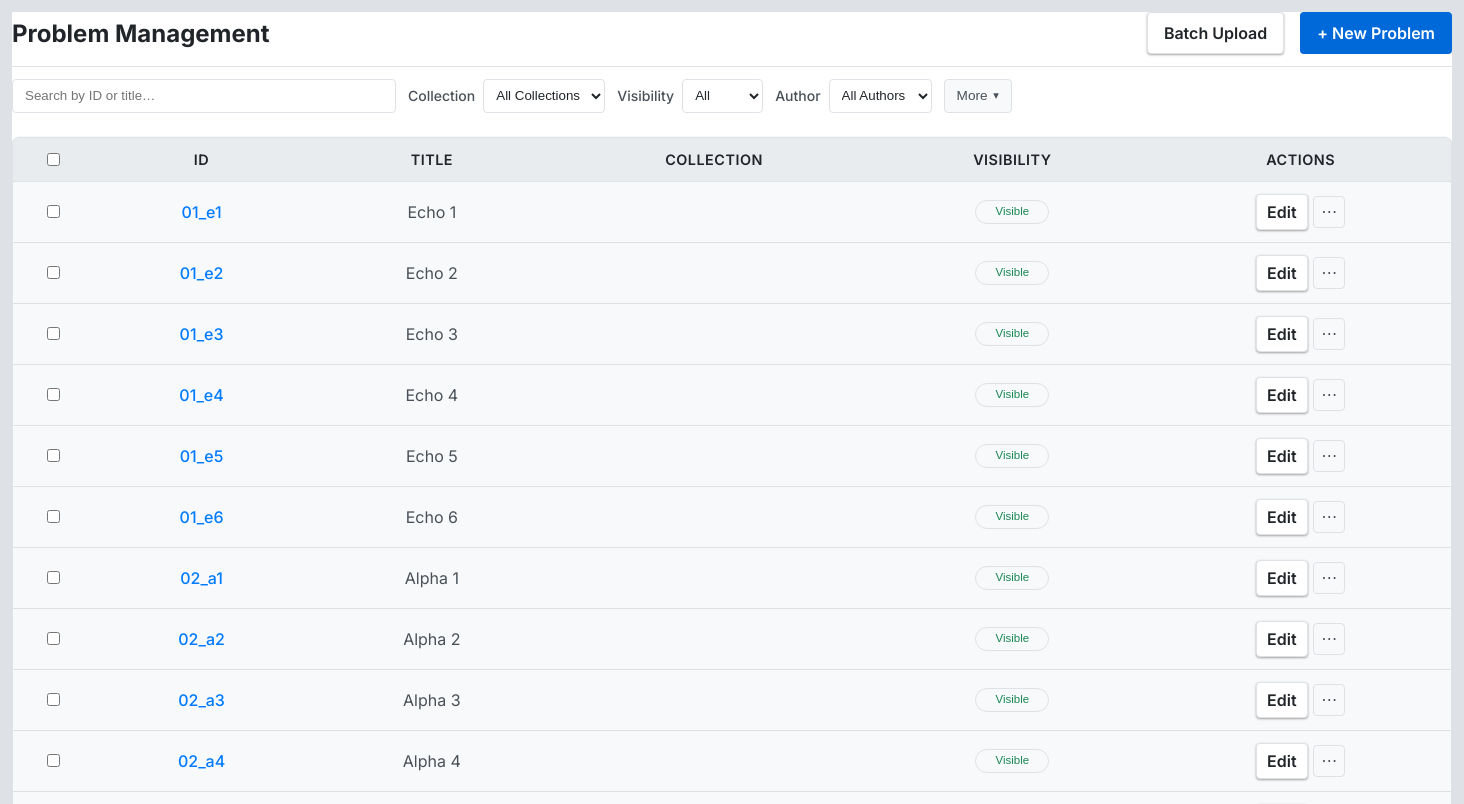
Test case: ProblemManagement Component › bulk selection › clicking the fully-checked header deselects every displayed row
Expected: the text "Echo 1" is shown, [310, 181, 554, 242]
Click the checkbox named "select all currently displayed problems": (54, 159) [47, 153, 60, 166]
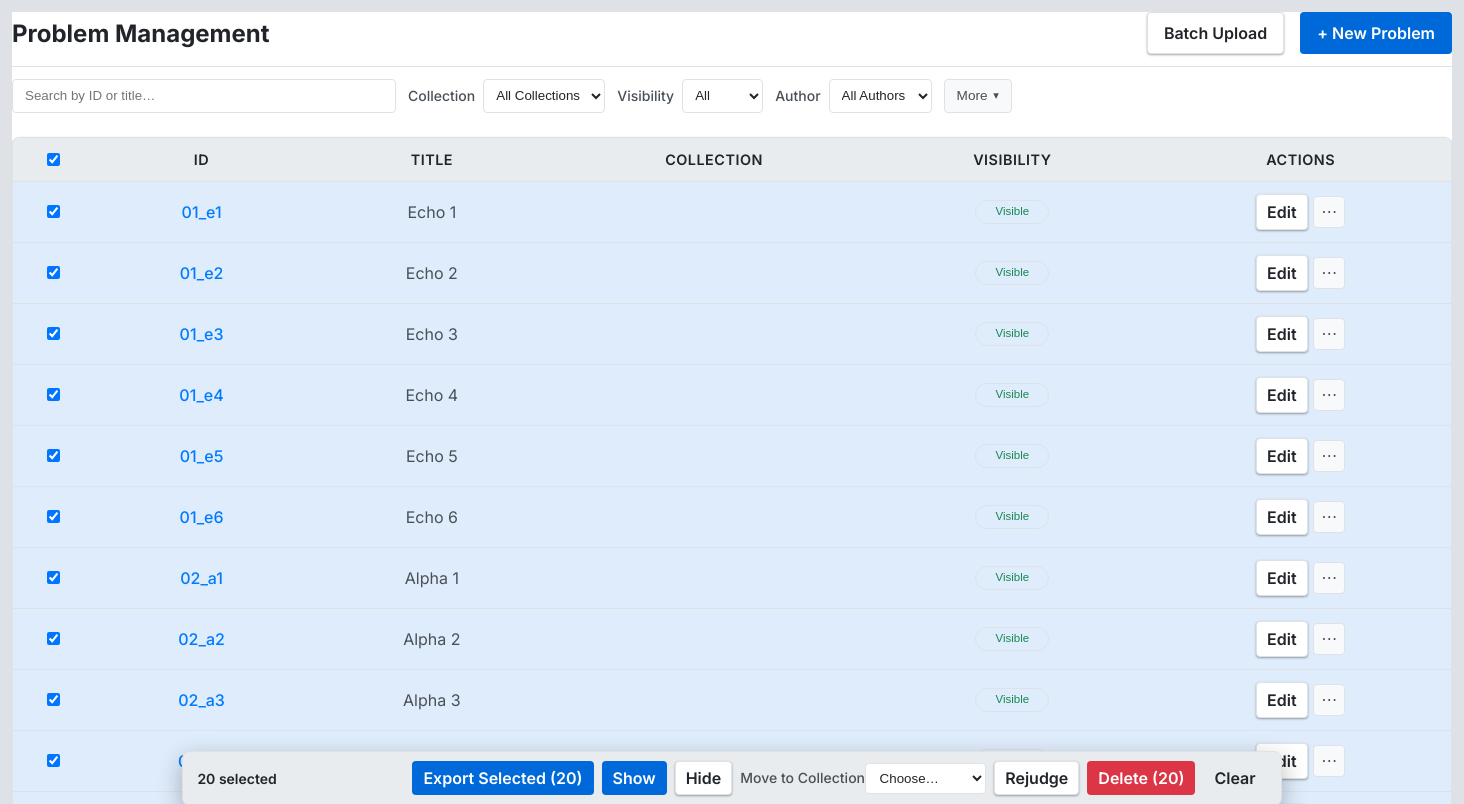
Expected: the text "20 selected" is shown, [197, 770, 277, 787]
Click the checkbox named "select all currently displayed problems": (54, 159) [47, 153, 60, 166]
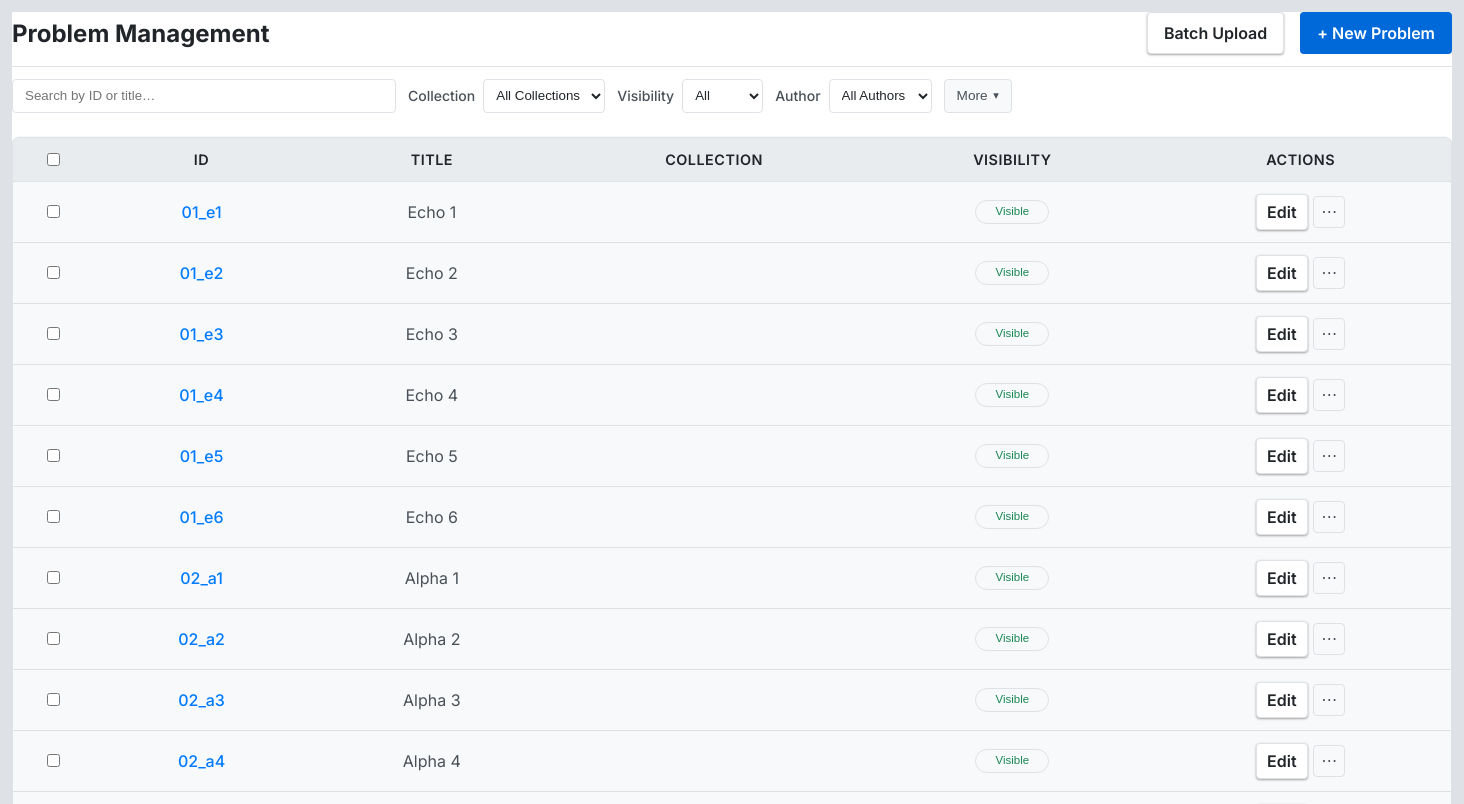
Expected: the text "selected" is gone
